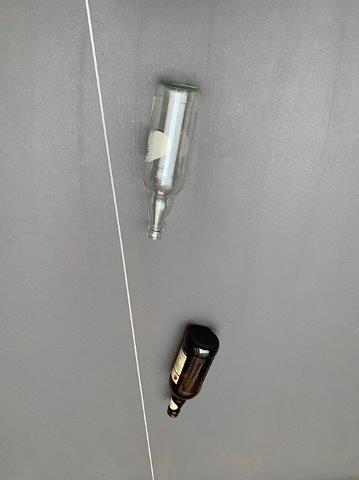botolkaca: (143, 82, 199, 238), (168, 327, 218, 418)
